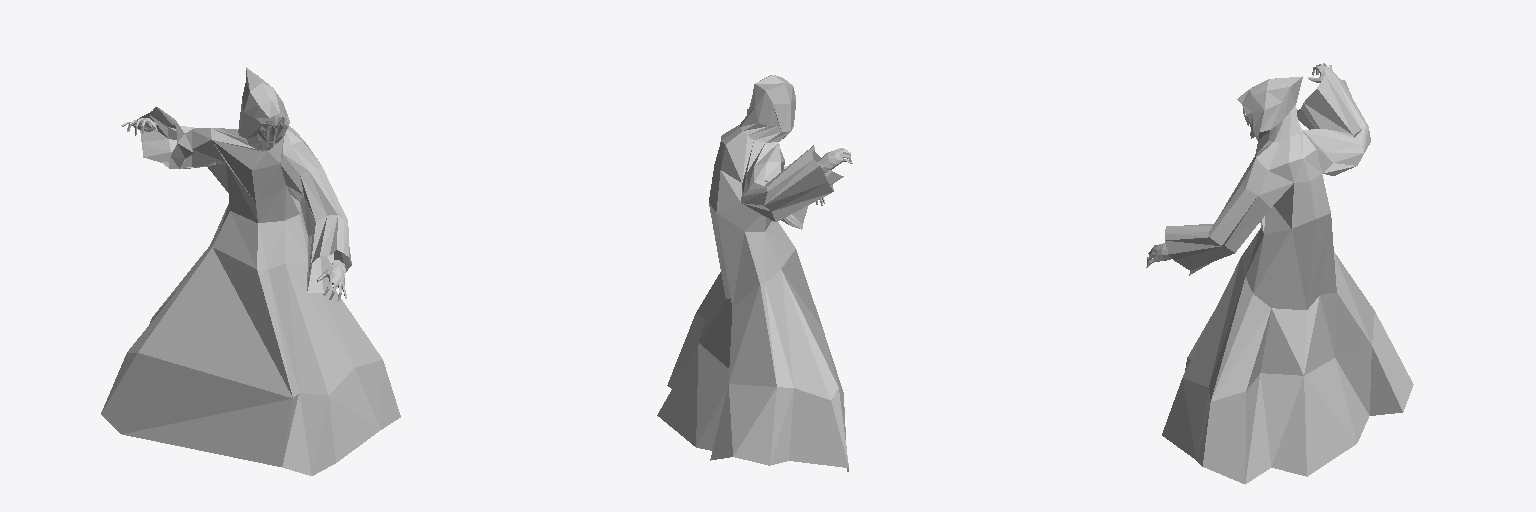
File: ReaperIdle(40).obj
3 views of the same model, side by side, from view 1: azimuth 30°, elevation 25°; view 2: azimuth 150°, elevation 25°; view 3: azimuth 270°, elevation 25° (orthographic).
Parts seen in each view (by area): view 1: Plane003; view 2: Plane003; view 3: Plane003.
Part boxes in pixels (left/top/right/bottom): Plane003: left=101, top=67, right=400, bottom=475; Plane003: left=657, top=75, right=852, bottom=471; Plane003: left=1146, top=63, right=1413, bottom=484.
Size of the model in its own units: 144 by 210 by 141.